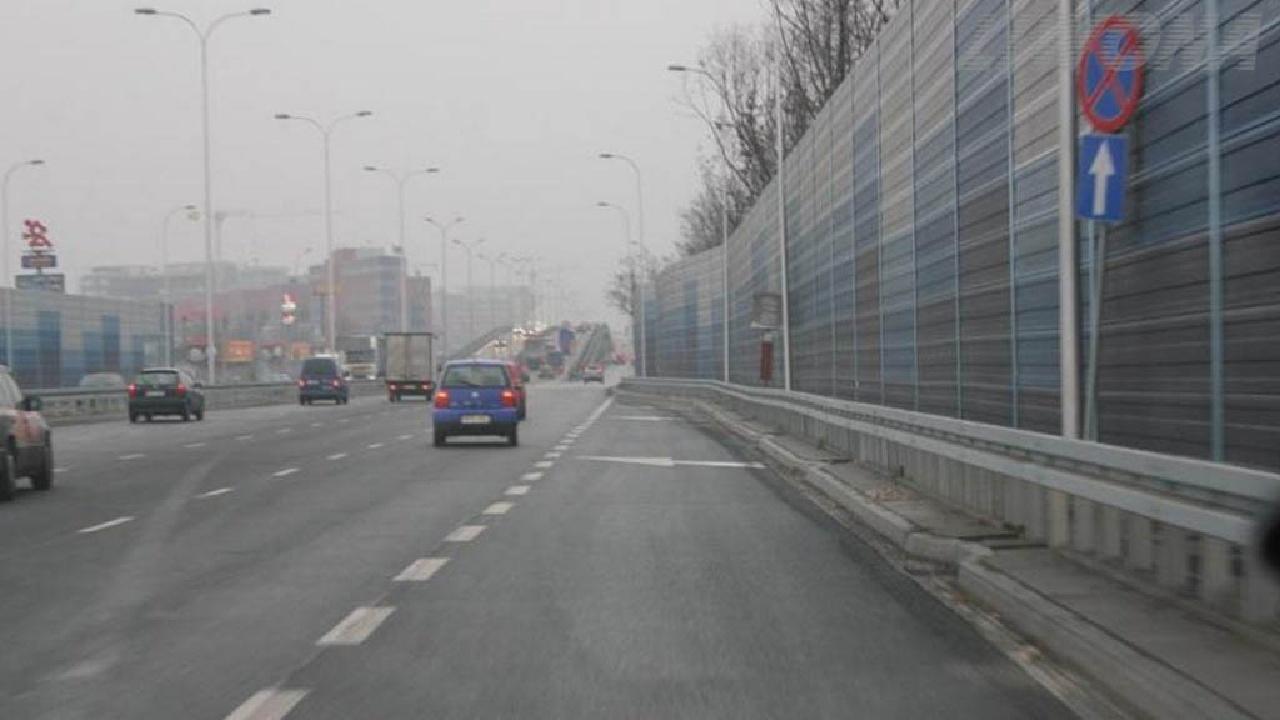B36: (1078, 15, 1145, 133)
D3: (1079, 134, 1127, 221)
